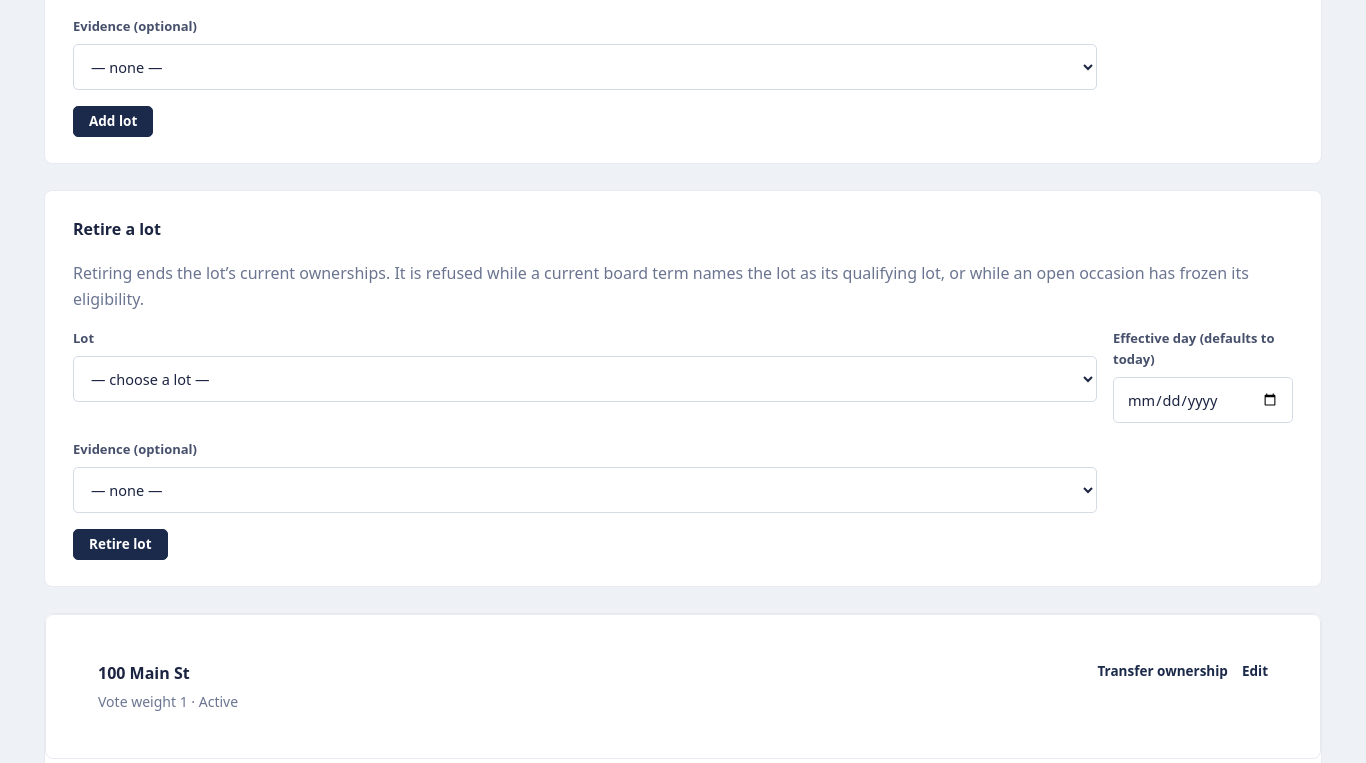
Test: RosterAdminPanel › retires a lot through the helper and reports it
(page scrolled)
Select "100 Main St" in the dropdown labelled "Lot": point(585, 379) left=73, top=356, right=1097, bottom=402
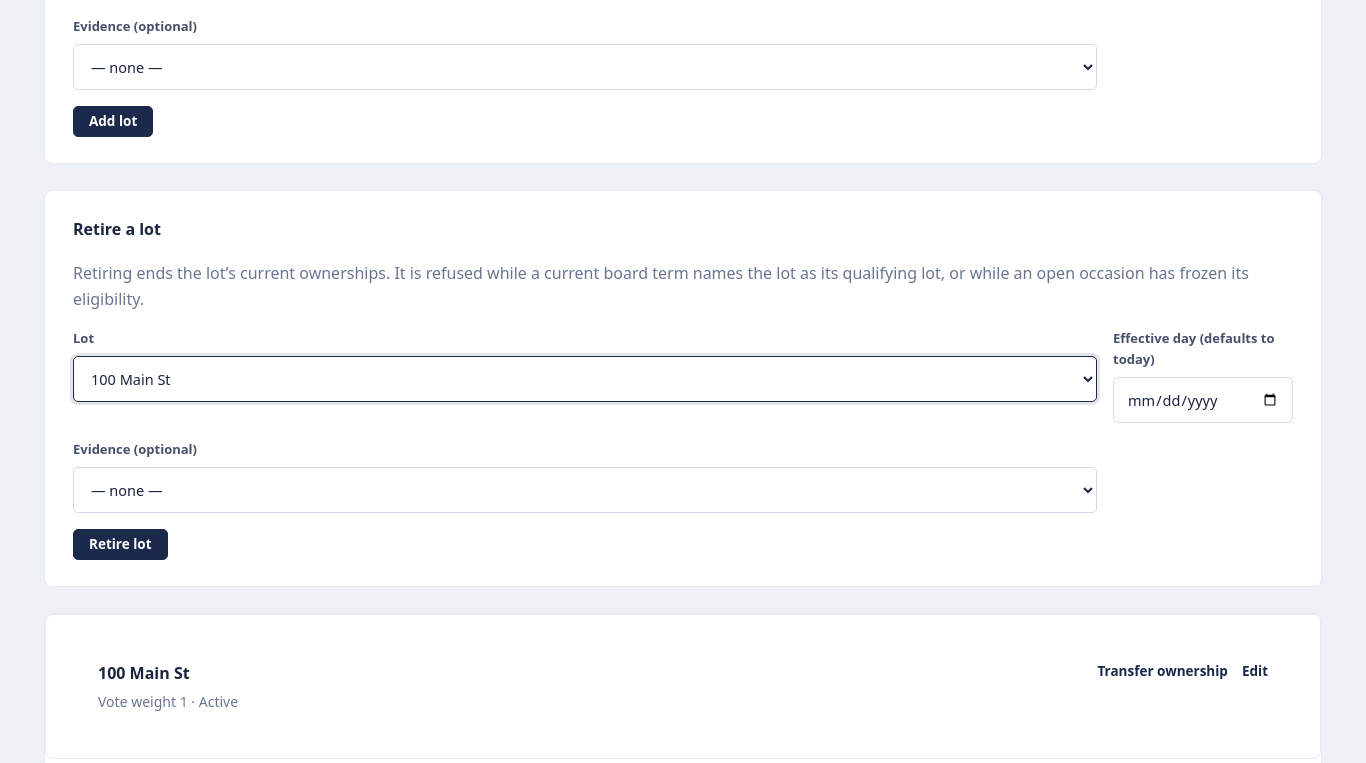
Click the button "Retire lot": point(120, 544) left=73, top=529, right=168, bottom=560
(page scrolled)
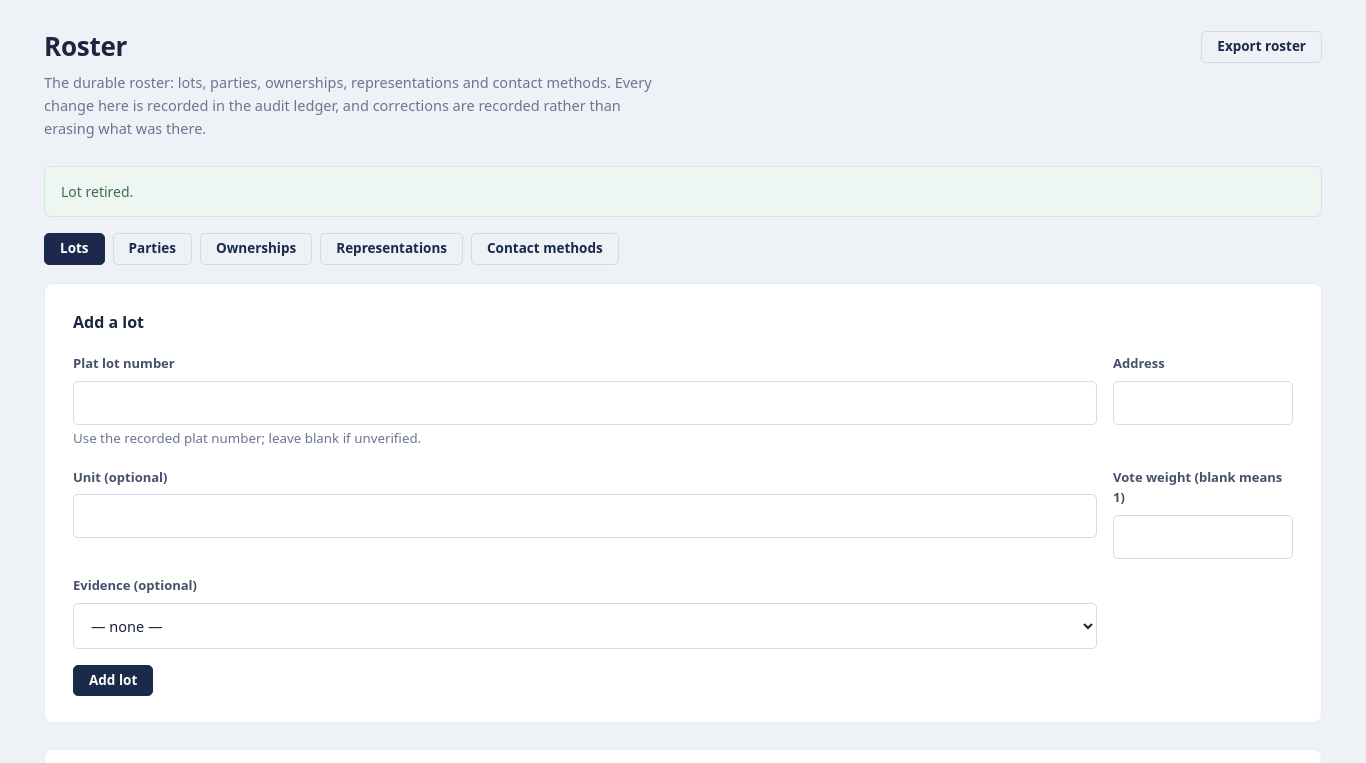
expect the text "Lot retired." is shown: met, box left=44, top=166, right=1322, bottom=217
